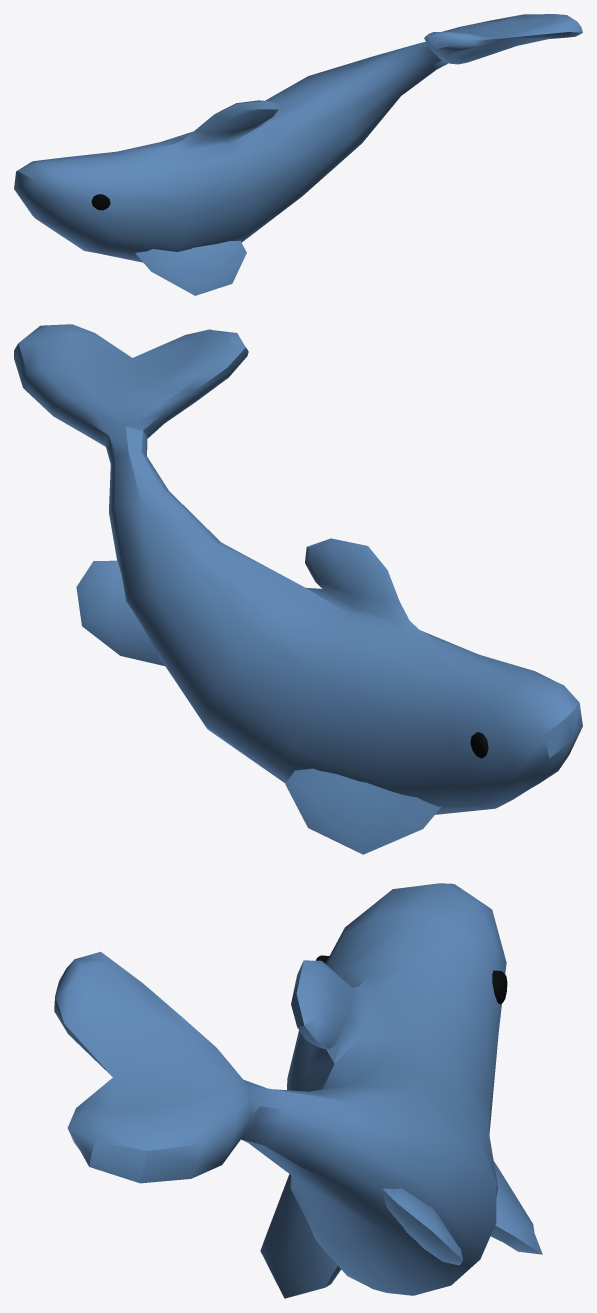
File: fish_large_C.obj
3 renders of one model, top to bottom at view 1: azimuth 30°, elevation 25°; view 2: azimuth 150°, elevation 25°; view 3: azimuth 270°, elevation 25°, orthographic. The views are drawn at different scales.
Parts seen in each view (by area): view 1: fish_large_C_Plane.018; view 2: fish_large_C_Plane.018; view 3: fish_large_C_Plane.018.
Part boxes in pixels (x1=…): fish_large_C_Plane.018: x1=14, y1=14, x2=582, y2=295; fish_large_C_Plane.018: x1=14, y1=324, x2=582, y2=854; fish_large_C_Plane.018: x1=54, y1=883, x2=542, y2=1298.
Bounding box in the file's own units: 1.05 × 0.5172 × 0.461.
